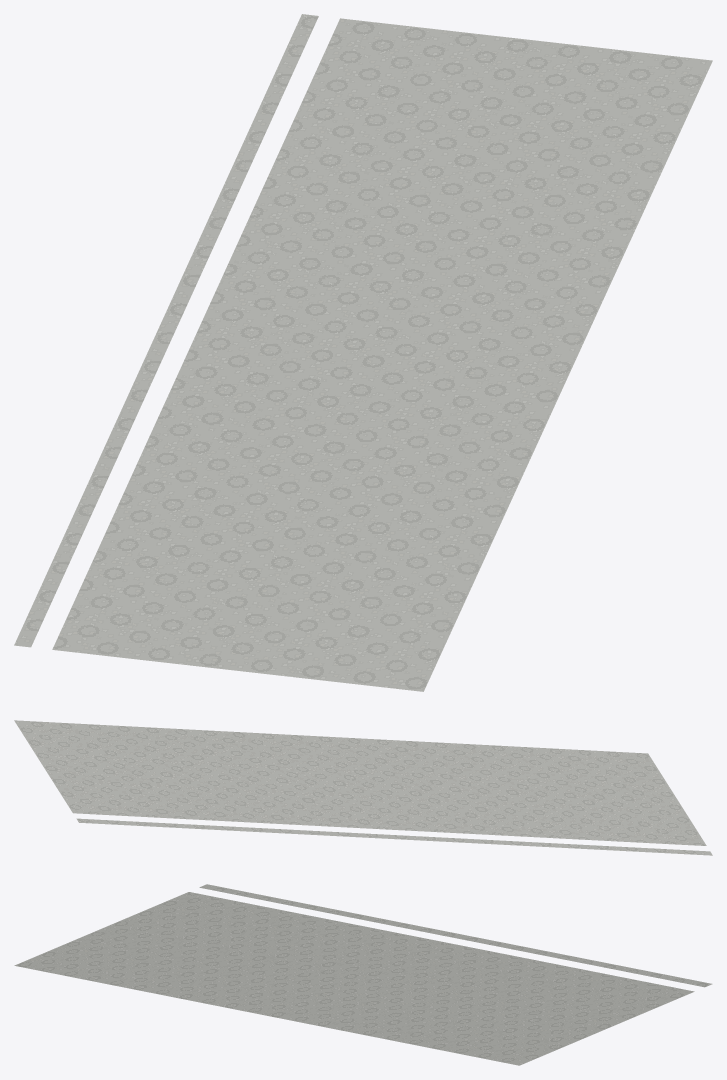
File: kd_stage_13612f_5_35.glb
3 renders of one model, top to bottom at view 1: azimuth 30°, elevation 25°; view 2: azimuth 150°, elevation 25°; view 3: azimuth 270°, elevation 25°, orthographic. The views are drawn at different scales.
Visible parts, largest first — view 1: kd_stage_13612f_5_35; view 2: kd_stage_13612f_5_35; view 3: kd_stage_13612f_5_35.
Part boxes in pixels (bbox=[...]): kd_stage_13612f_5_35: bbox=[14, 14, 712, 691]; kd_stage_13612f_5_35: bbox=[14, 720, 712, 855]; kd_stage_13612f_5_35: bbox=[14, 884, 712, 1065].
Size of the model in its own units: 3.89 by 0.6999 by 3.89.
Materials: 1 (1 with a texture image).
